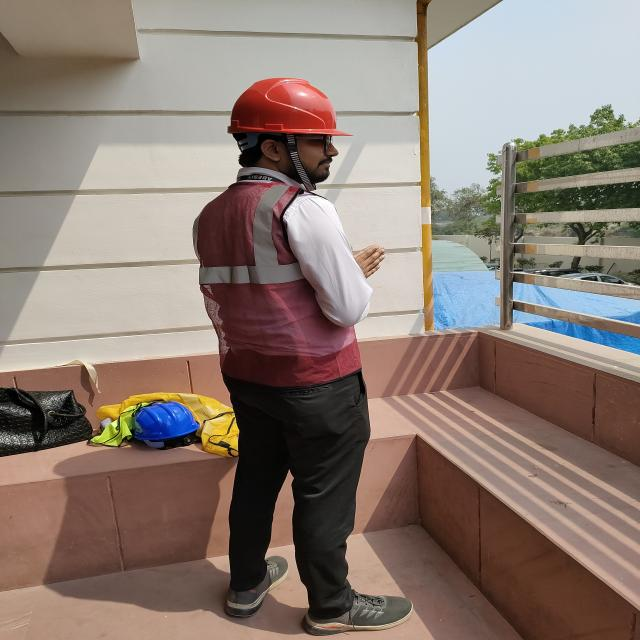safe: (194, 78, 385, 635)
